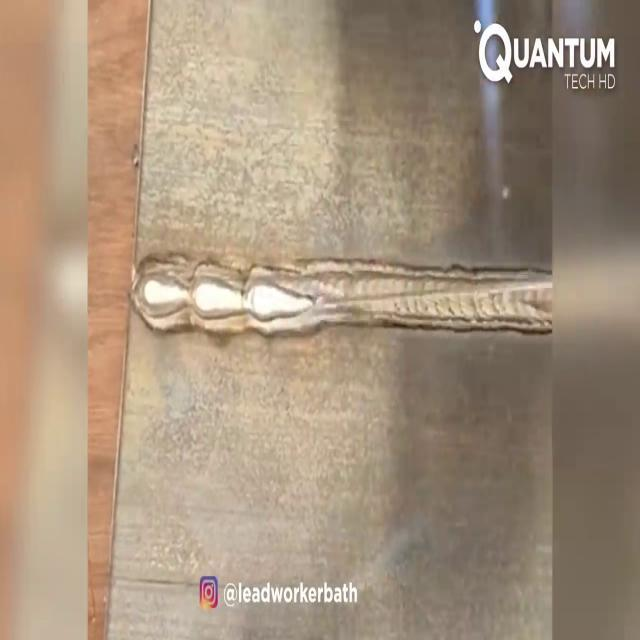Good Weld: (137, 266, 535, 328)
